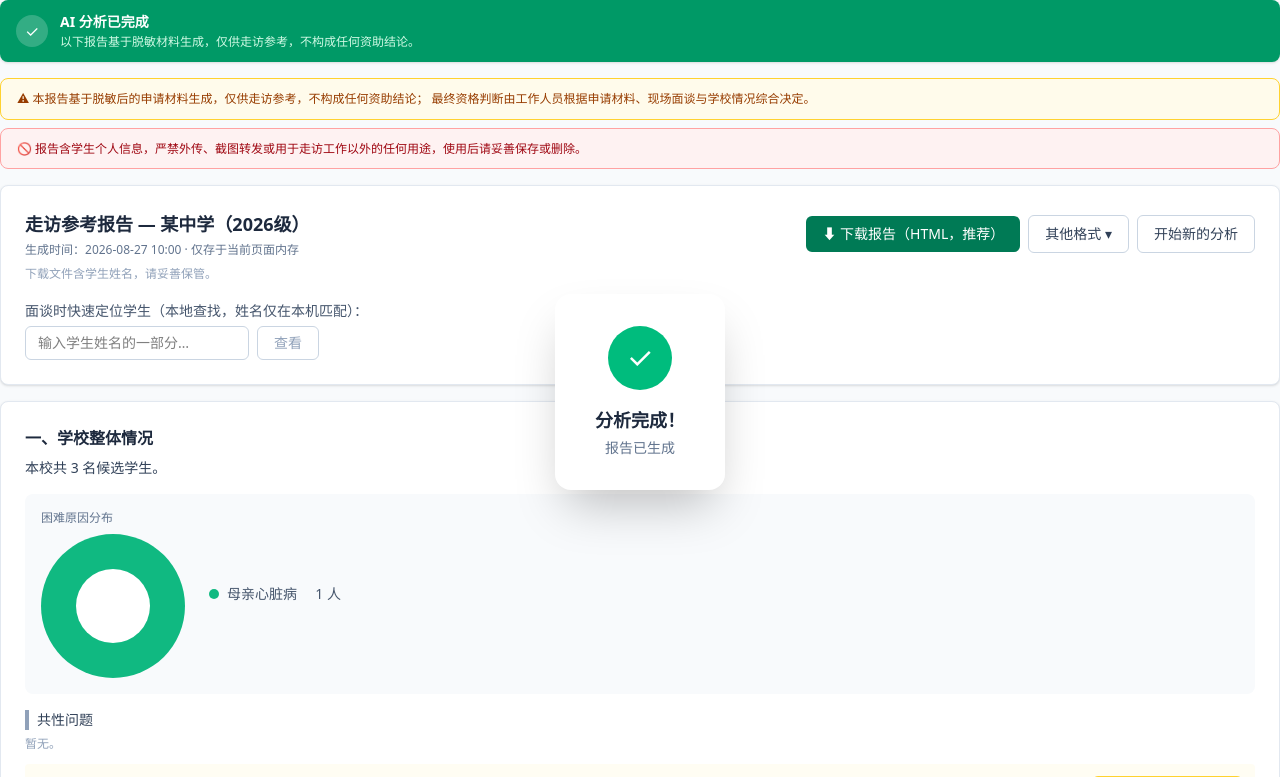
ReportStep（本地查找 + 模态框 + 成功动画） › 点下拉条目 → 模态框显示该学生完整信息；关闭按钮可关
Step 1. Type "王小明" into the dropdown with placeholder "输入学生姓名的一部分…" → coordinates (137, 343), box [25, 326, 249, 360]
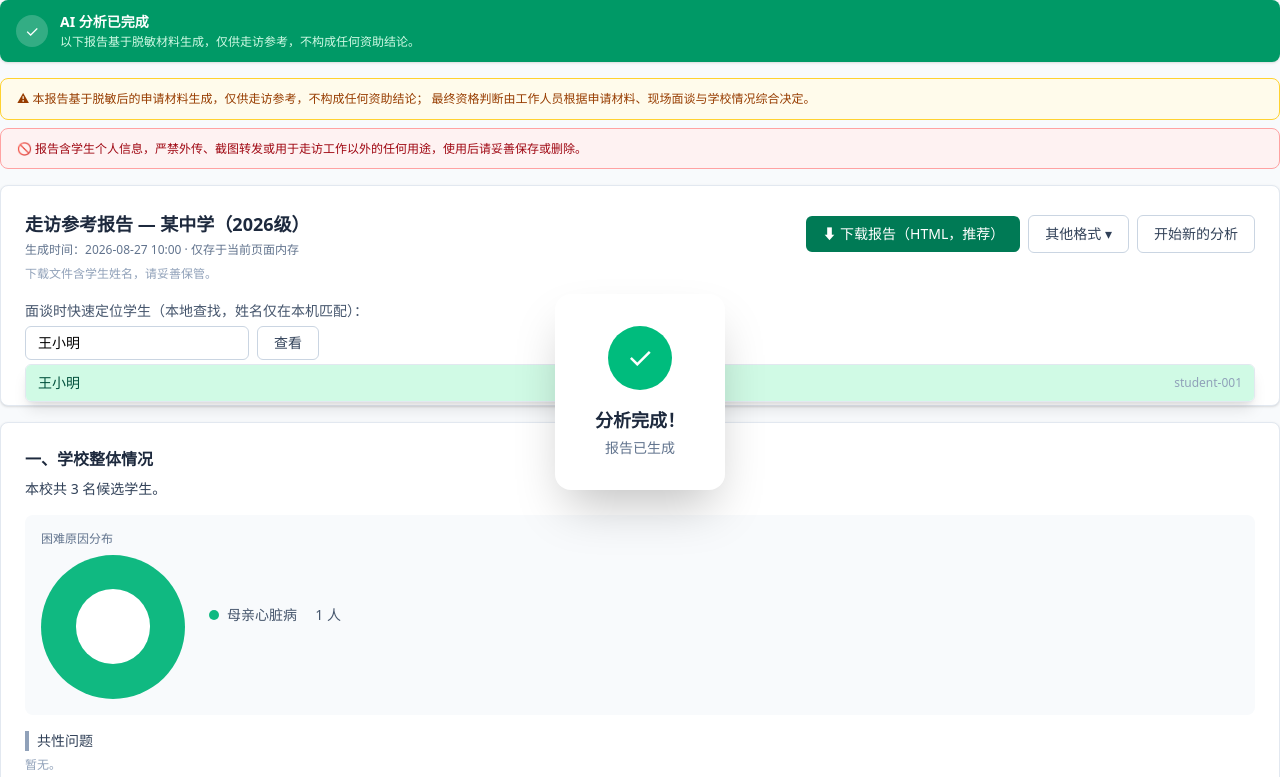
Step 2. Click the text "王小明" → coordinates (59, 383), box [38, 373, 80, 393]
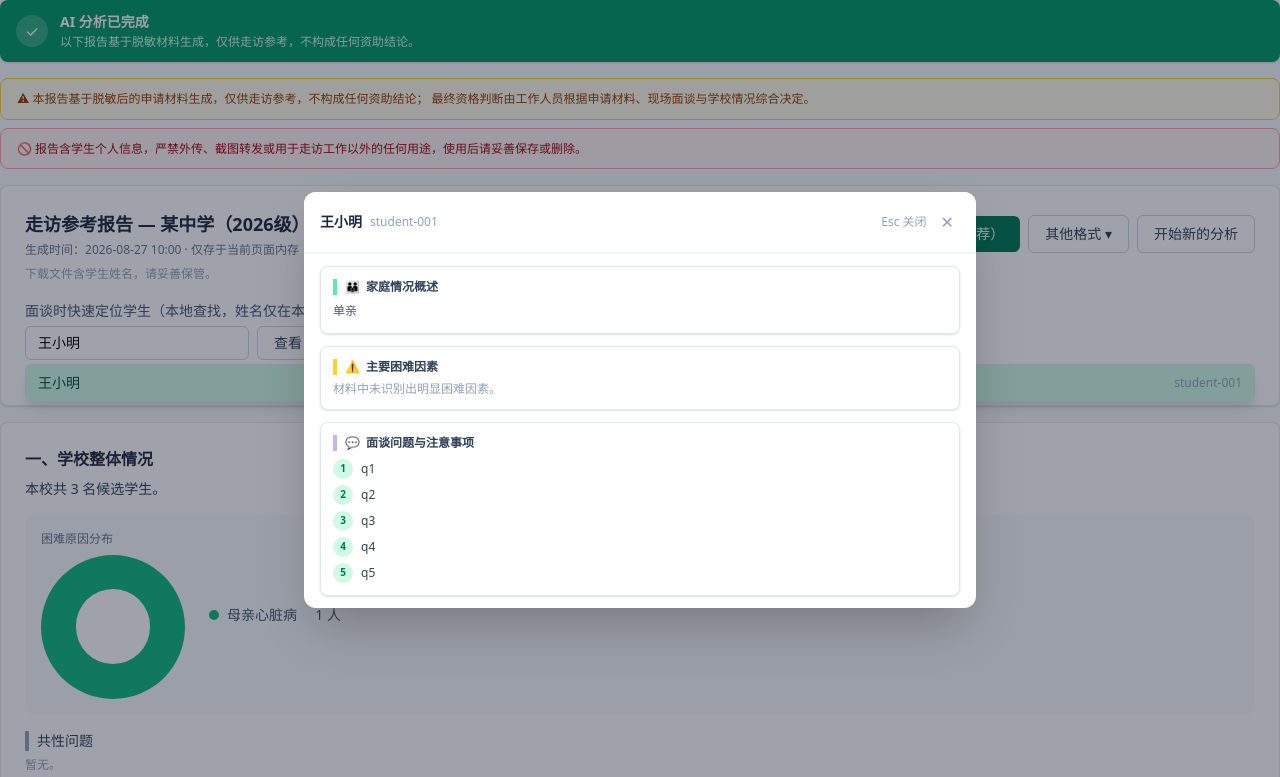
Expected: the text "王小明" is shown, [38, 373, 80, 393]
Expected: the heading "👪 家庭情况概述" is shown, [333, 279, 947, 295]
Step 3. Click the button named "关闭" → coordinates (947, 222), box [935, 204, 960, 240]
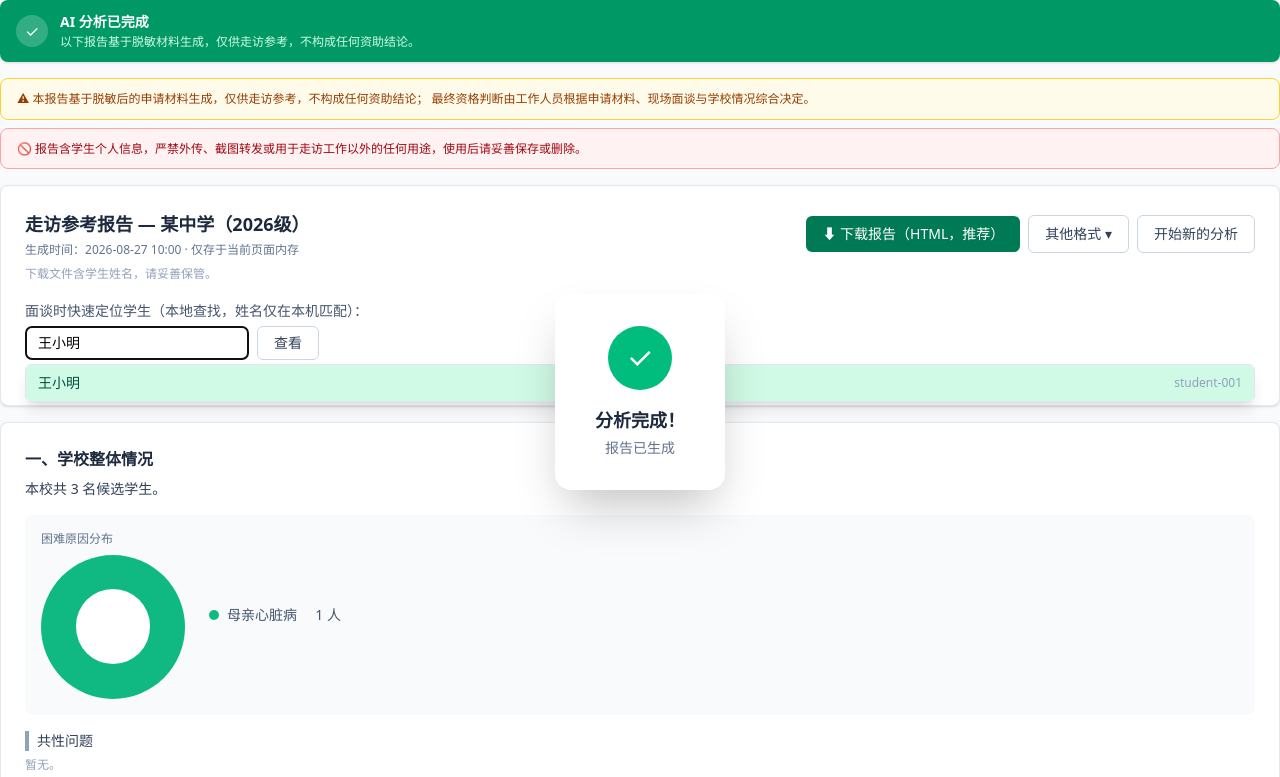
Expected: the dialog is gone
